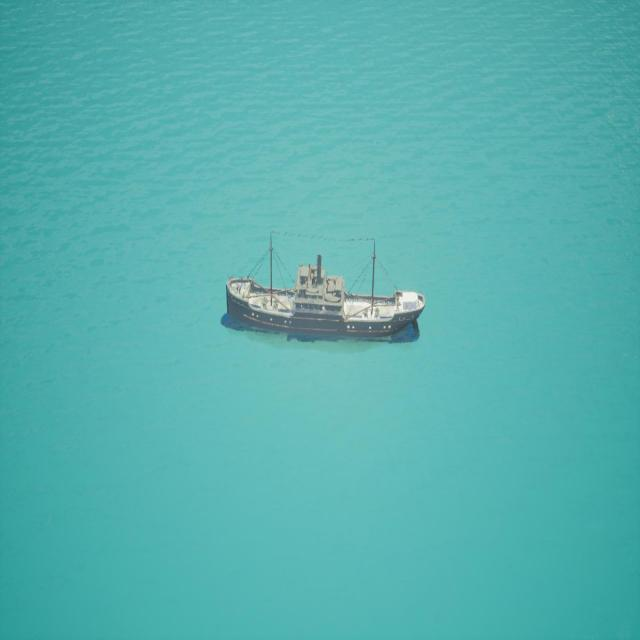fishing ship: (226, 234, 425, 342), (225, 233, 294, 328)
